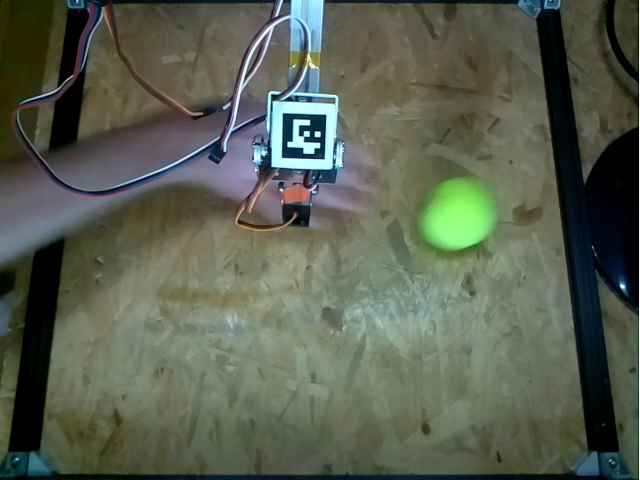tennis_ball: (421, 178, 497, 253)
